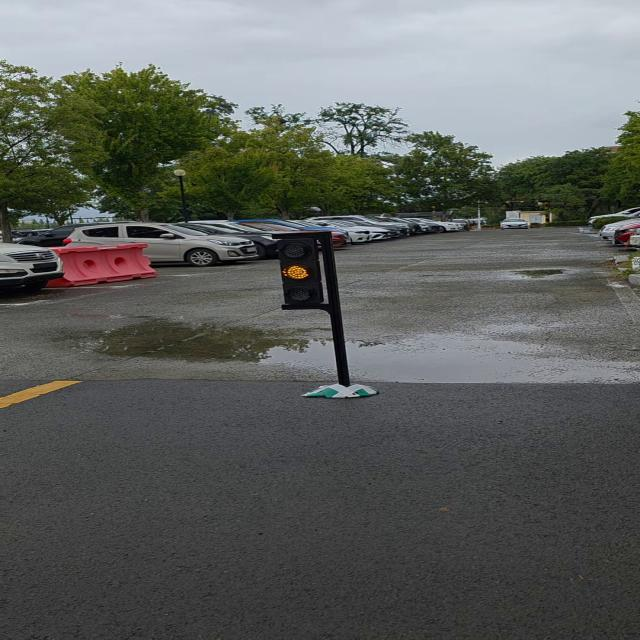yellow: (275, 236, 329, 308)
